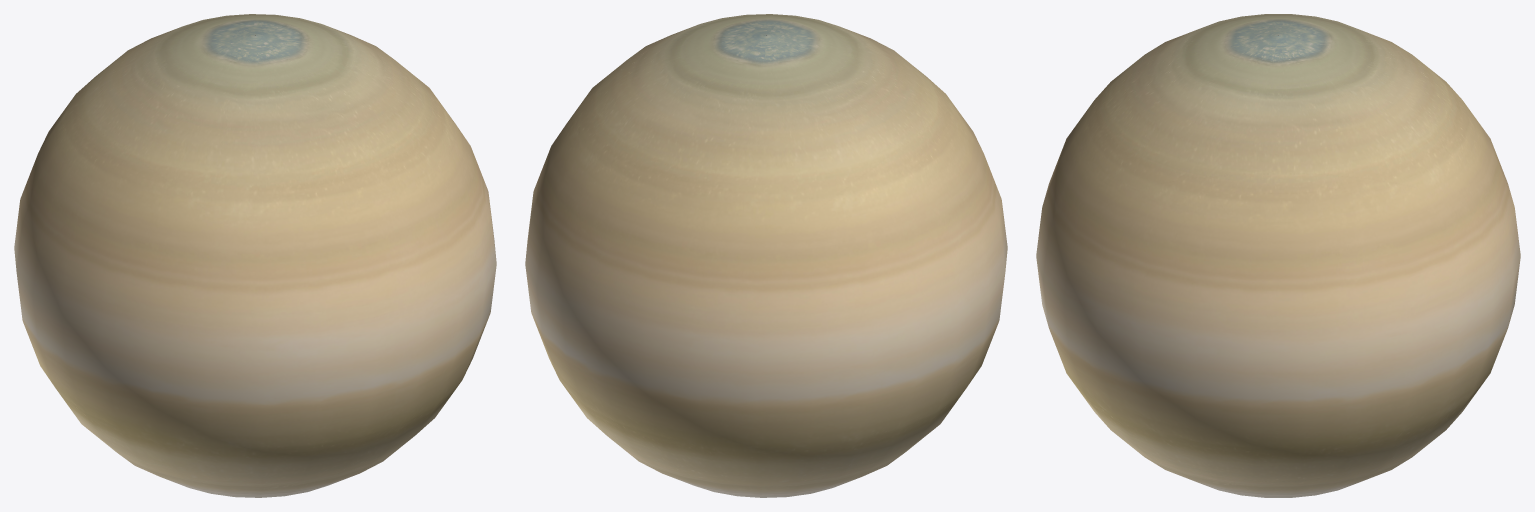
The model's file is saturn_no_rings_01.fbx.
3 renders of one model, left to right at view 1: azimuth 30°, elevation 25°; view 2: azimuth 150°, elevation 25°; view 3: azimuth 270°, elevation 25°, orthographic.
Visible parts, largest first — view 1: saturn_model; view 2: saturn_model; view 3: saturn_model.
Part boxes in pixels (x1,y1,x2,y2): saturn_model: [14, 14, 496, 497]; saturn_model: [525, 14, 1007, 497]; saturn_model: [1036, 14, 1520, 497].
Bounding box in the file's own units: 199 × 200 × 200.
1 material, 1 textured.
